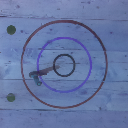Axe Tip: (38, 72, 47, 75)
